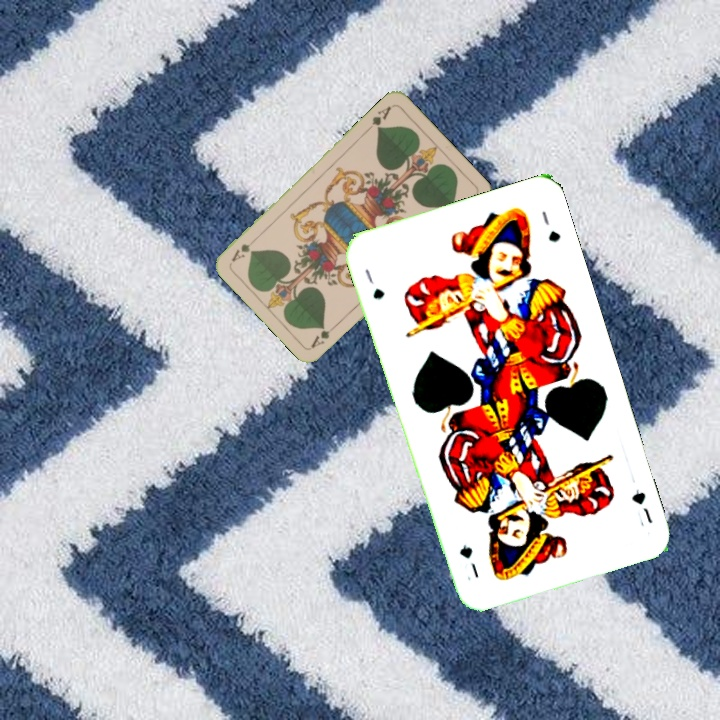GA: (307, 319, 341, 351), (362, 102, 394, 134)
GU: (627, 484, 656, 529), (360, 265, 388, 302)
